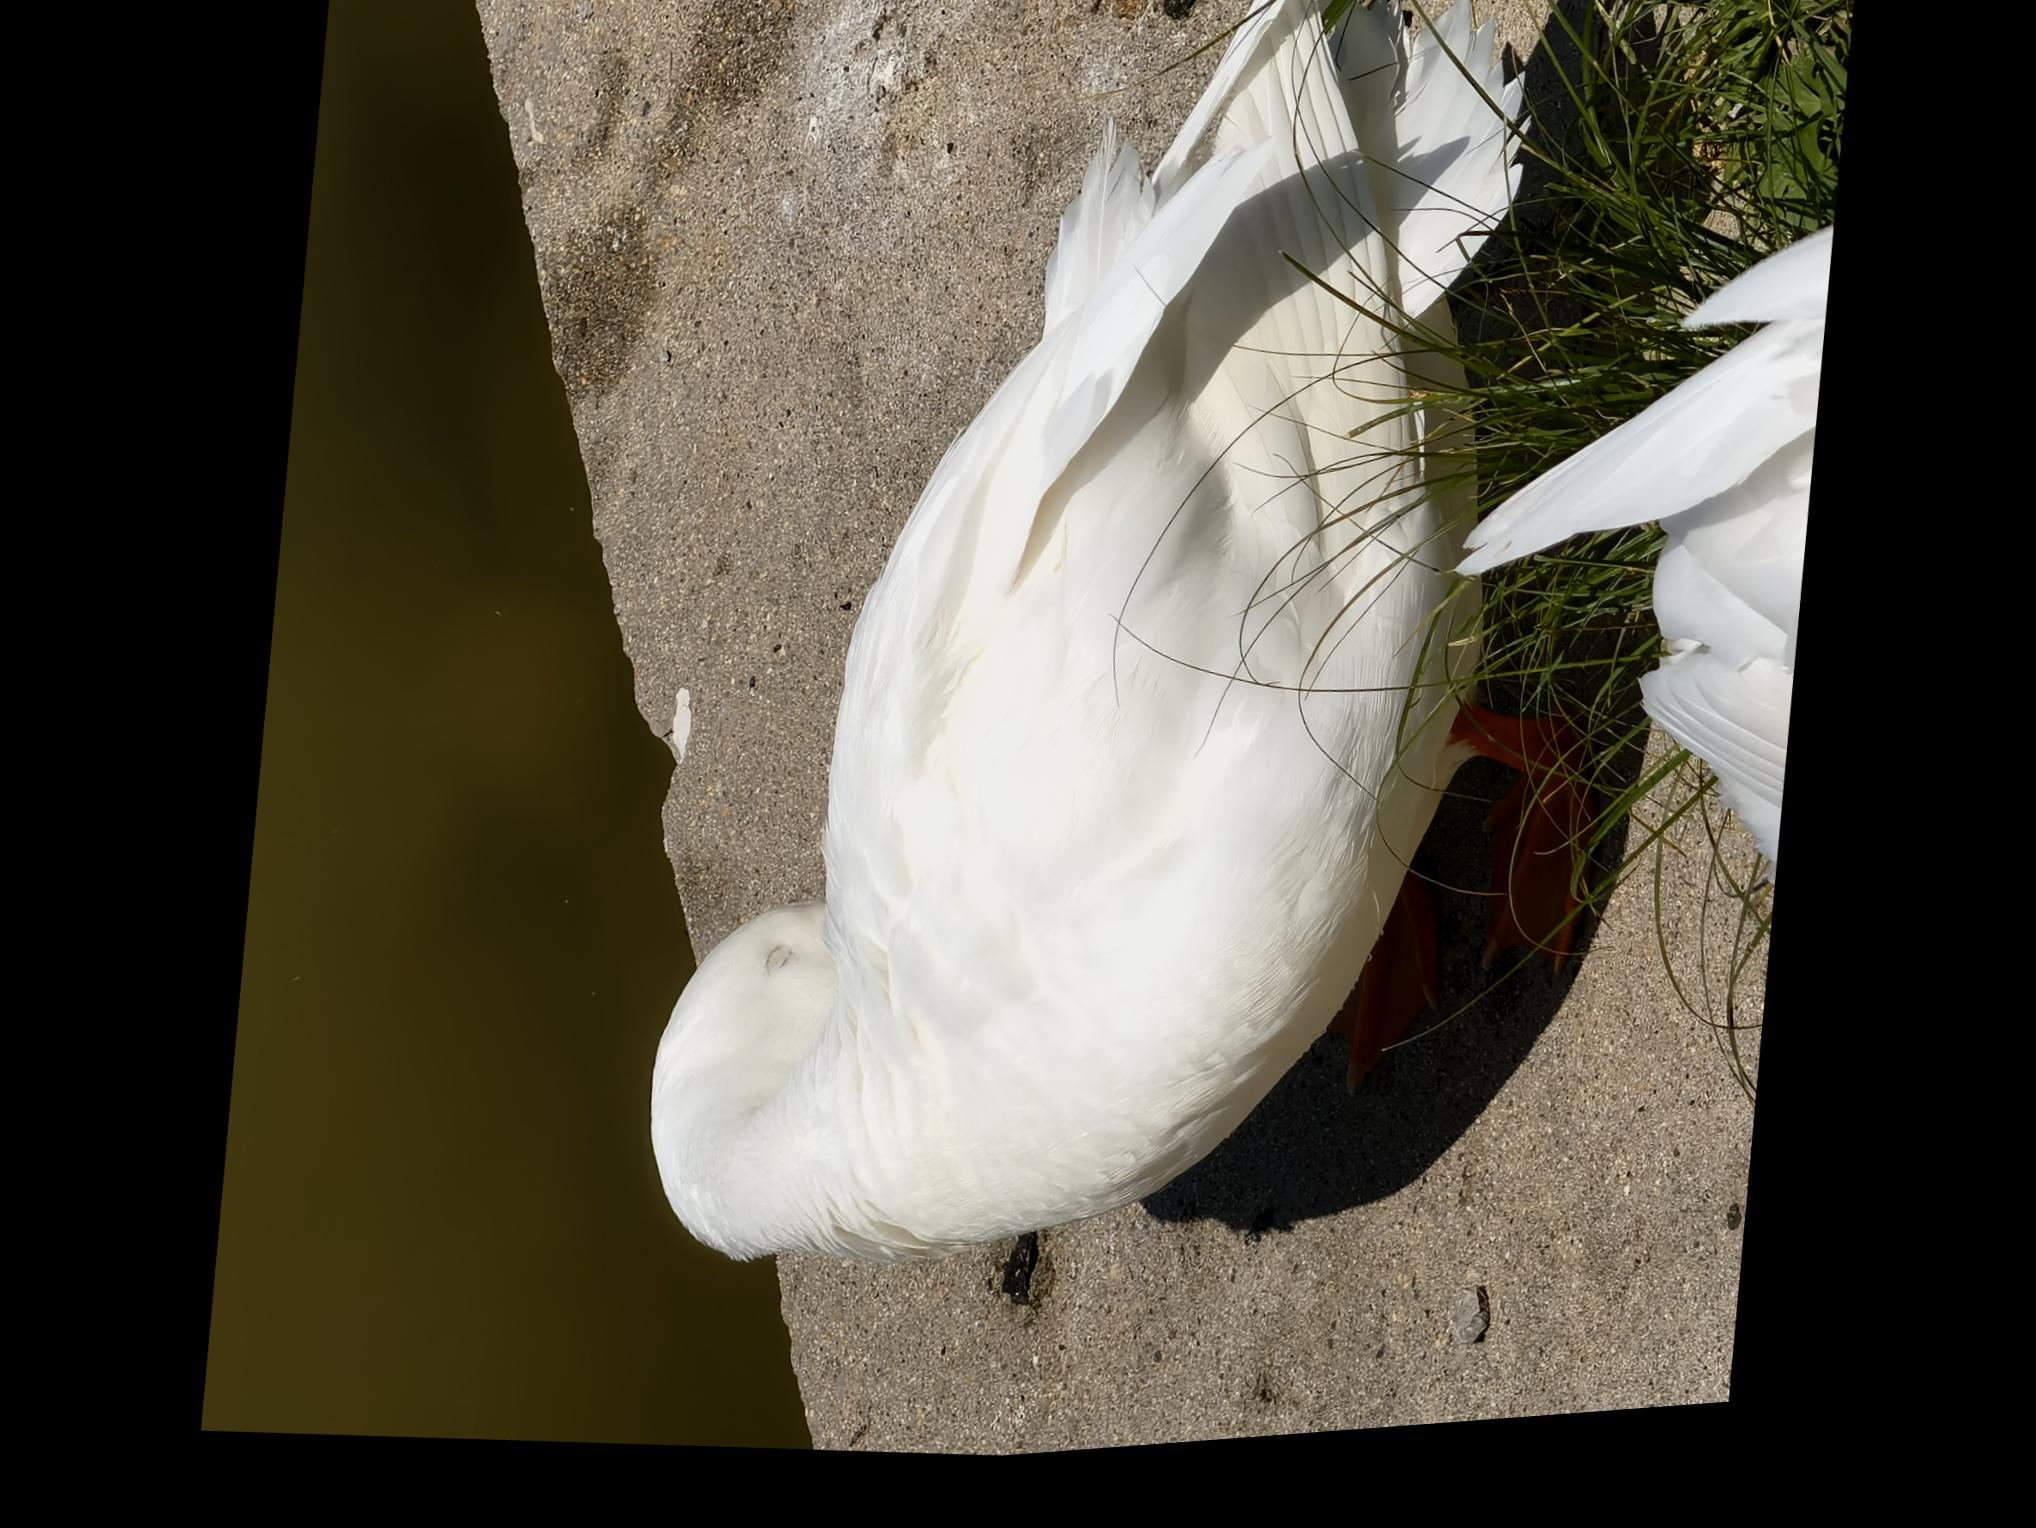duck: (595, 0, 1568, 1355)
